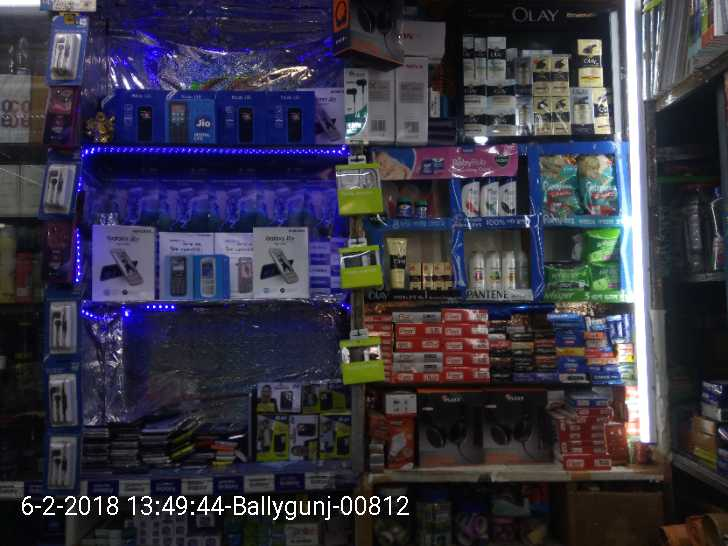vicks: (392, 194, 434, 219)
